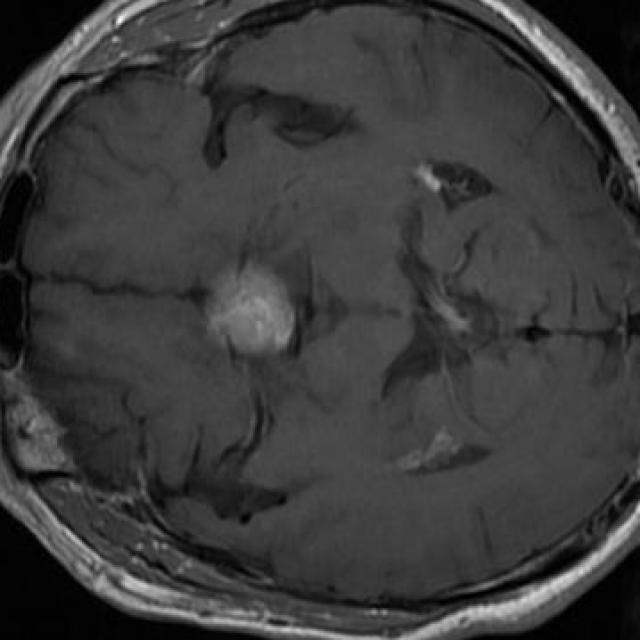pituitary: (210, 267, 294, 351)
